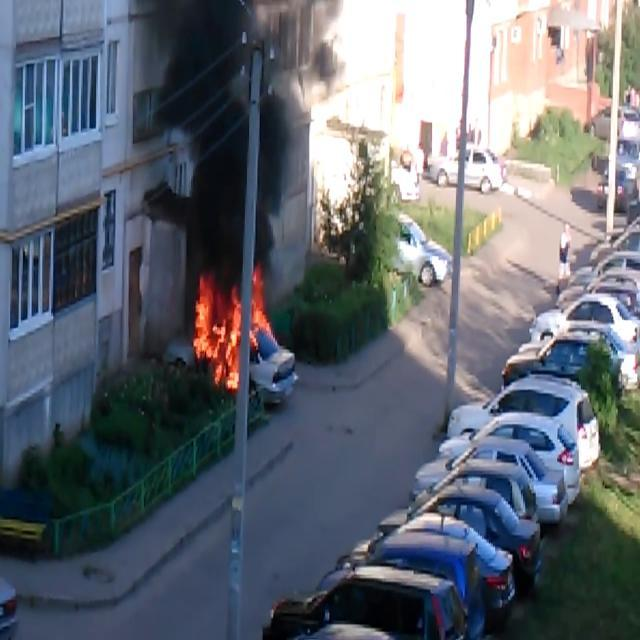Fire: (191, 263, 267, 391)
Smoke: (126, 0, 328, 302)
